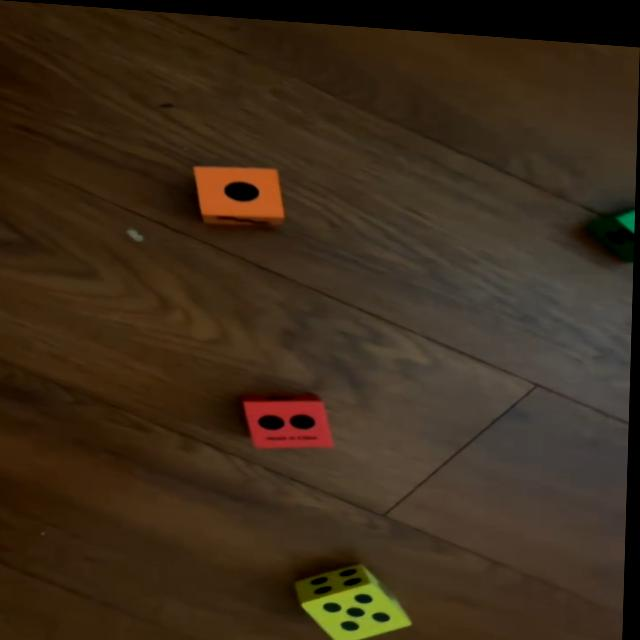cube: (246, 385, 338, 449), (589, 199, 636, 251)
